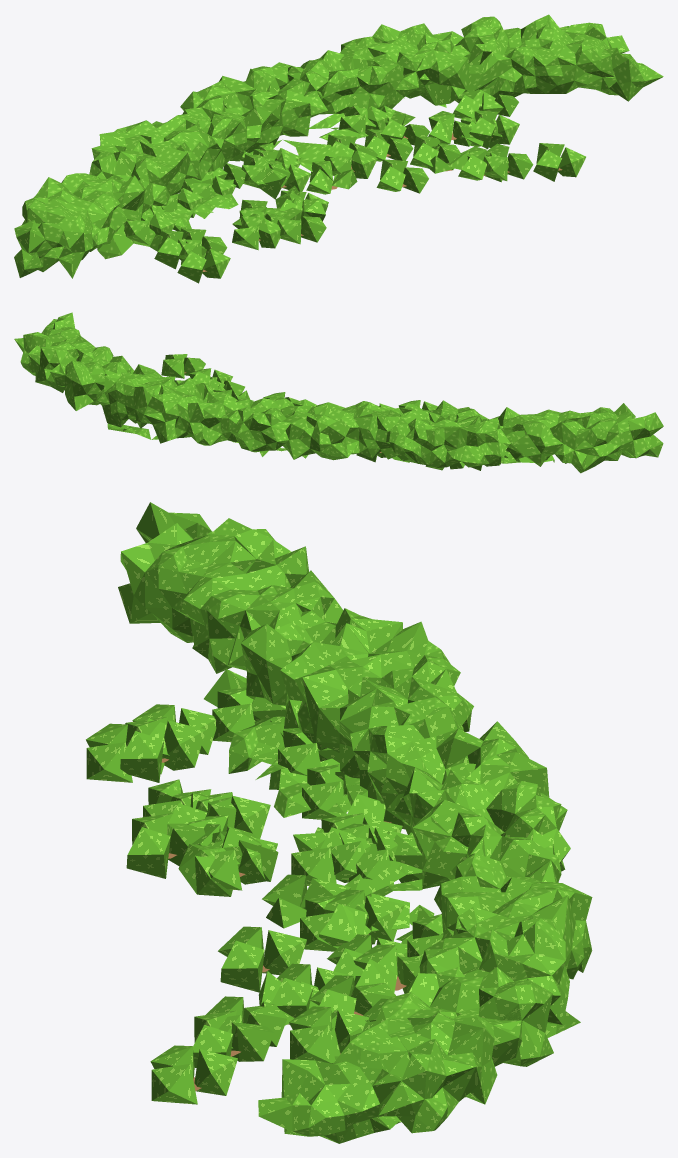
The model's file is Foret_Fond_Montagne.glb.
3 views of the same model, one above another, from view 1: azimuth 30°, elevation 25°; view 2: azimuth 150°, elevation 25°; view 3: azimuth 270°, elevation 25° (orthographic). The views are drawn at different scales.
Visible parts, largest first — view 1: Foret Fond Montagne; view 2: Foret Fond Montagne; view 3: Foret Fond Montagne.
Part boxes in pixels (box(x1,y1,x2,y2)): Foret Fond Montagne: box(14, 14, 663, 283); Foret Fond Montagne: box(14, 312, 663, 473); Foret Fond Montagne: box(86, 502, 592, 1143).
Size of the model in its own units: 155 by 19.65 by 58.48.
2 materials, 2 textured.
